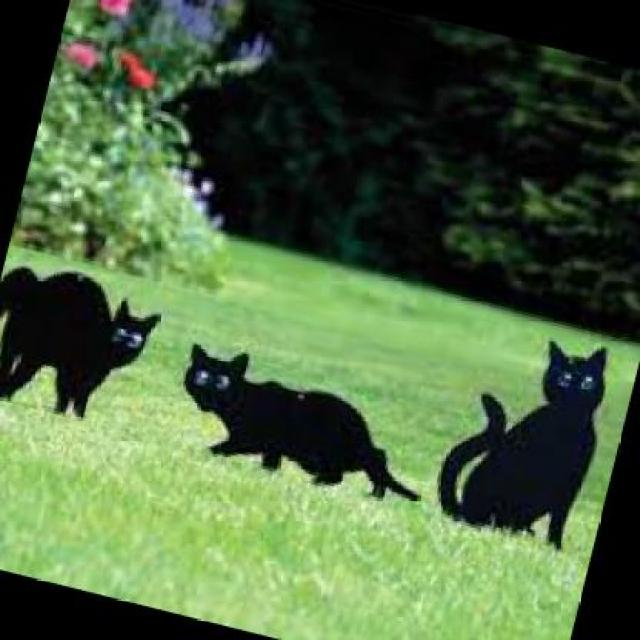animals: (143, 326, 449, 517), (432, 311, 633, 564), (0, 248, 183, 446)
